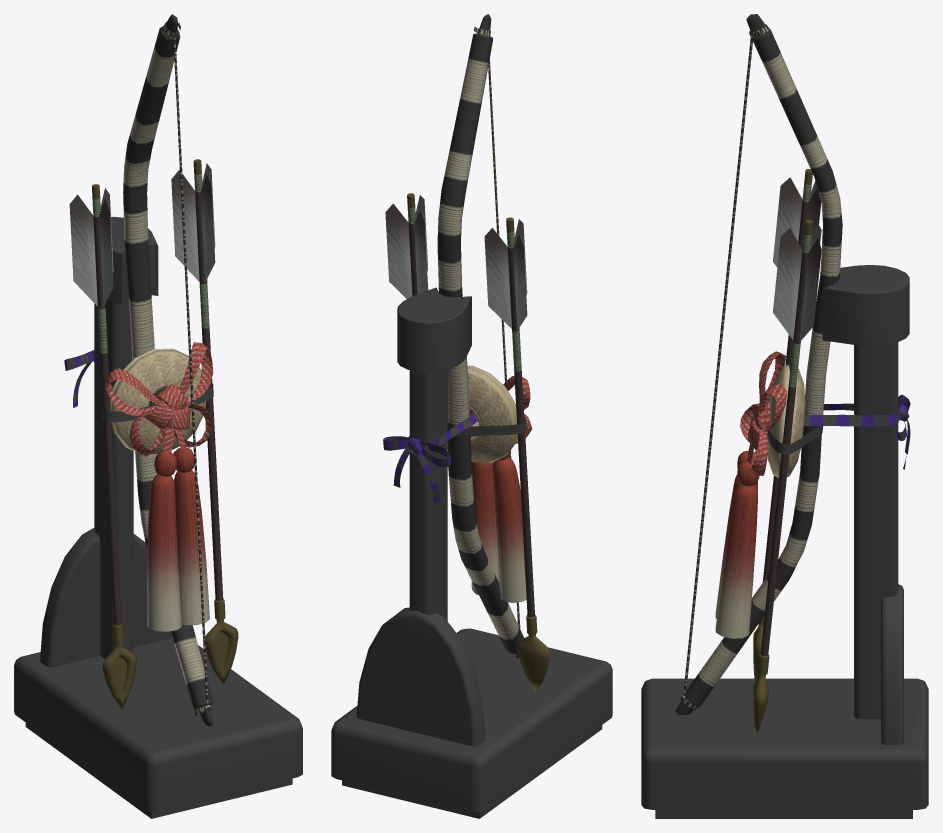
Rendered from BowDisplay01.fbx.
3 views of the same model, side by side, from view 1: azimuth 30°, elevation 25°; view 2: azimuth 150°, elevation 25°; view 3: azimuth 270°, elevation 25° (orthographic). The views are drawn at different scales.
Parts seen in each view (by area): view 1: BowDisplay01; view 2: BowDisplay01; view 3: BowDisplay01.
Boxes of the visible parts, x1=… form: BowDisplay01: x1=14, y1=14, x2=302, y2=818; BowDisplay01: x1=331, y1=14, x2=612, y2=818; BowDisplay01: x1=641, y1=14, x2=928, y2=818.
Bounding box in the file's own units: 20.82 × 94.99 × 32.13.
4 materials, 4 textured.
